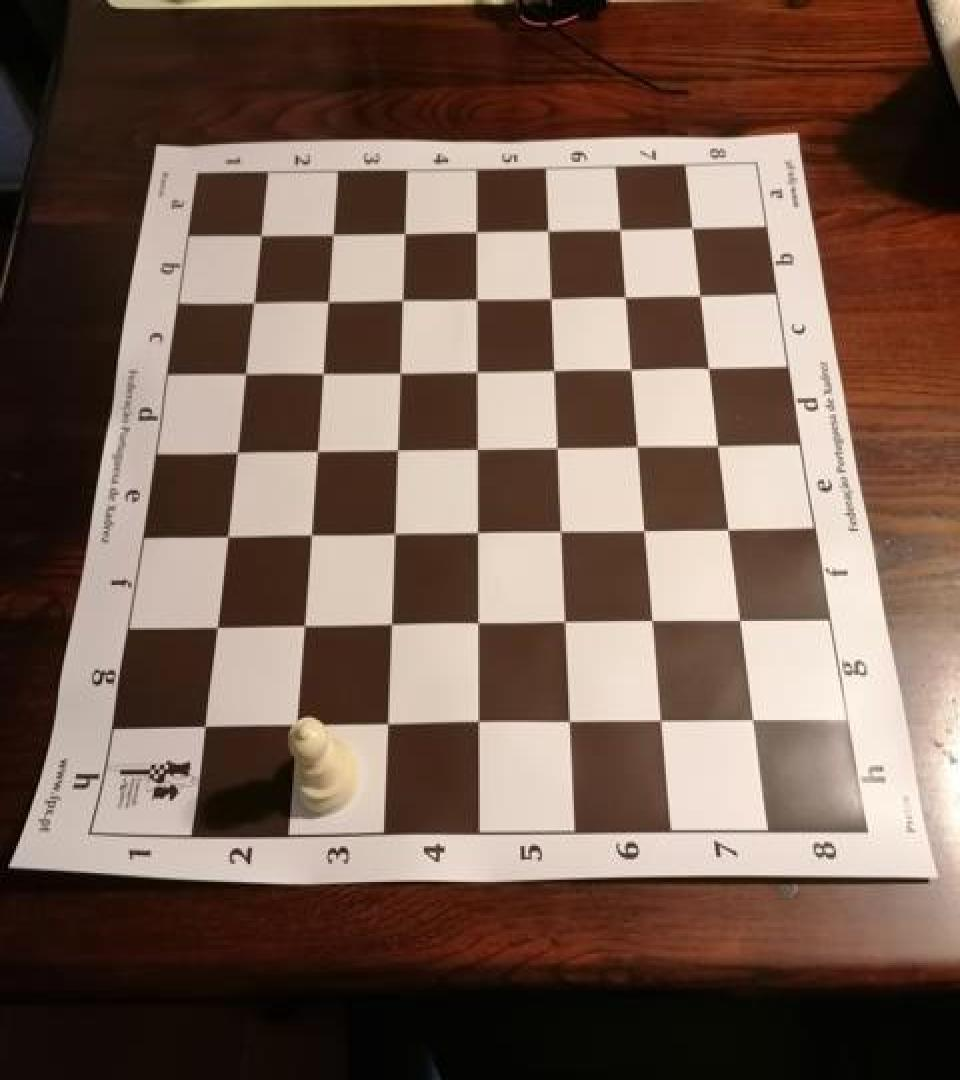xcorner: (675, 209, 707, 245), (601, 212, 633, 248), (528, 214, 560, 250), (456, 216, 488, 252), (384, 218, 416, 254), (312, 220, 344, 256), (242, 222, 274, 258), (683, 277, 715, 313), (607, 278, 639, 314), (531, 280, 563, 316), (456, 281, 488, 317), (381, 284, 413, 320), (307, 286, 339, 322), (233, 287, 265, 323), (692, 349, 724, 385), (613, 350, 645, 386), (534, 351, 566, 387), (456, 353, 488, 389), (378, 354, 410, 390), (301, 356, 333, 392), (225, 358, 257, 394), (702, 426, 734, 462), (619, 428, 651, 464), (537, 428, 569, 464), (455, 430, 487, 466), (375, 431, 407, 467), (294, 432, 326, 468), (215, 434, 247, 470), (713, 511, 745, 547), (626, 512, 658, 548), (540, 513, 572, 549), (455, 514, 487, 550), (371, 514, 403, 550), (287, 515, 319, 551), (205, 516, 237, 552), (724, 603, 756, 639), (634, 604, 666, 640), (544, 604, 576, 640), (455, 605, 487, 641), (367, 605, 399, 641), (280, 605, 312, 641), (193, 606, 225, 642), (737, 704, 769, 740), (642, 704, 674, 740), (548, 704, 580, 740), (455, 704, 487, 740), (363, 704, 395, 740), (271, 704, 303, 740), (181, 704, 213, 740)
